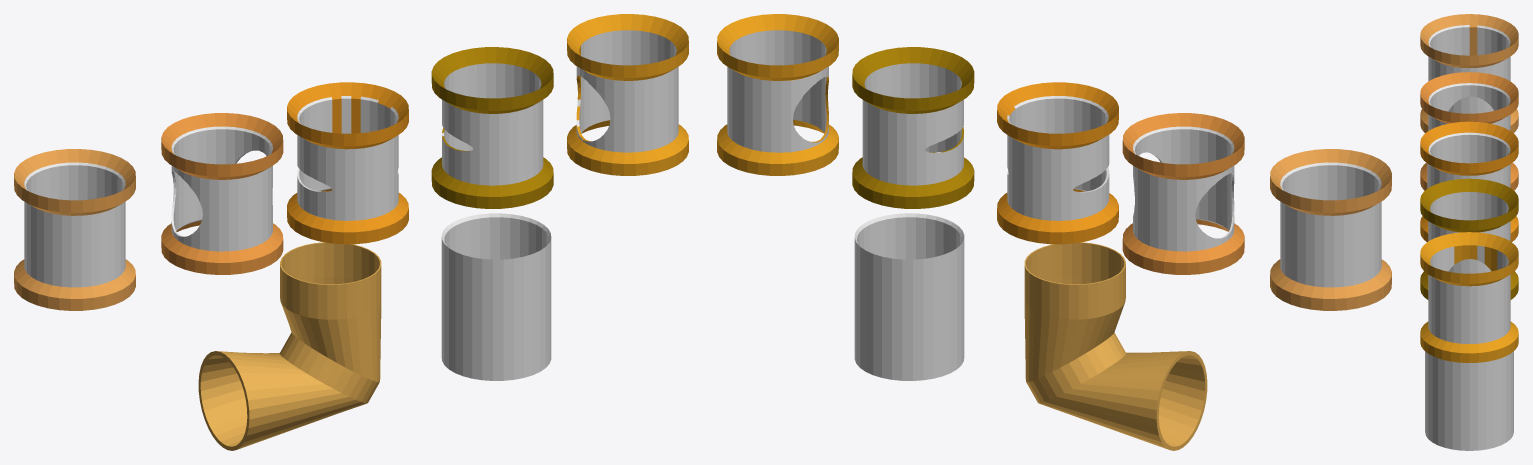
File: tubedroitsansanneau.fbx
The picture shows the model from 3 angles, left to right: view 1: azimuth 30°, elevation 25°; view 2: azimuth 150°, elevation 25°; view 3: azimuth 270°, elevation 25°; orthographic projection. The views are drawn at different scales.
Parts seen in each view (by area): view 1: Cylinder.005, Cylinder.006, Cylinder, Cylinder.003, Cylinder.002, Cylinder.001, Cylinder.004; view 2: Cylinder.005, Cylinder.006, Cylinder.003, Cylinder, Cylinder.002, Cylinder.001, Cylinder.004; view 3: Cylinder.001, Cylinder.006, Cylinder.002, Cylinder, Cylinder.003, Cylinder.004.
Boxes of the visible parts, bbox=[...] form: Cylinder.005: bbox=[198, 242, 381, 450]; Cylinder.006: bbox=[441, 213, 551, 380]; Cylinder: bbox=[431, 47, 553, 208]; Cylinder.003: bbox=[287, 82, 408, 244]; Cylinder.002: bbox=[14, 149, 135, 310]; Cylinder.001: bbox=[567, 14, 688, 175]; Cylinder.004: bbox=[161, 113, 283, 274]; Cylinder.005: bbox=[1024, 242, 1207, 450]; Cylinder.006: bbox=[854, 213, 964, 380]; Cylinder.003: bbox=[997, 82, 1118, 244]; Cylinder: bbox=[852, 47, 974, 208]; Cylinder.002: bbox=[1270, 149, 1391, 310]; Cylinder.001: bbox=[717, 14, 838, 175]; Cylinder.004: bbox=[1122, 113, 1244, 274]; Cylinder.001: bbox=[1420, 232, 1518, 362]; Cylinder.006: bbox=[1425, 351, 1513, 450]; Cylinder.002: bbox=[1420, 14, 1518, 133]; Cylinder: bbox=[1420, 178, 1518, 299]; Cylinder.003: bbox=[1420, 121, 1518, 241]; Cylinder.004: bbox=[1420, 72, 1518, 190].
Size of the model in its own units: 1496 by 670 by 240.
